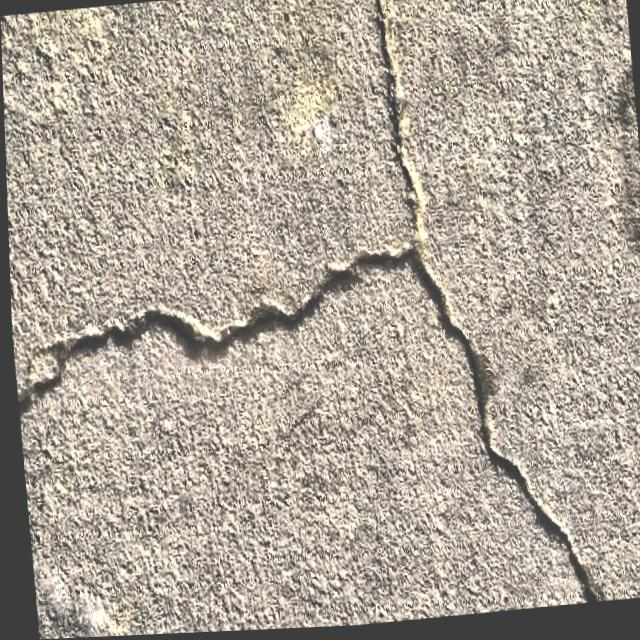cracks: (374, 0, 605, 603), (18, 249, 416, 417)
